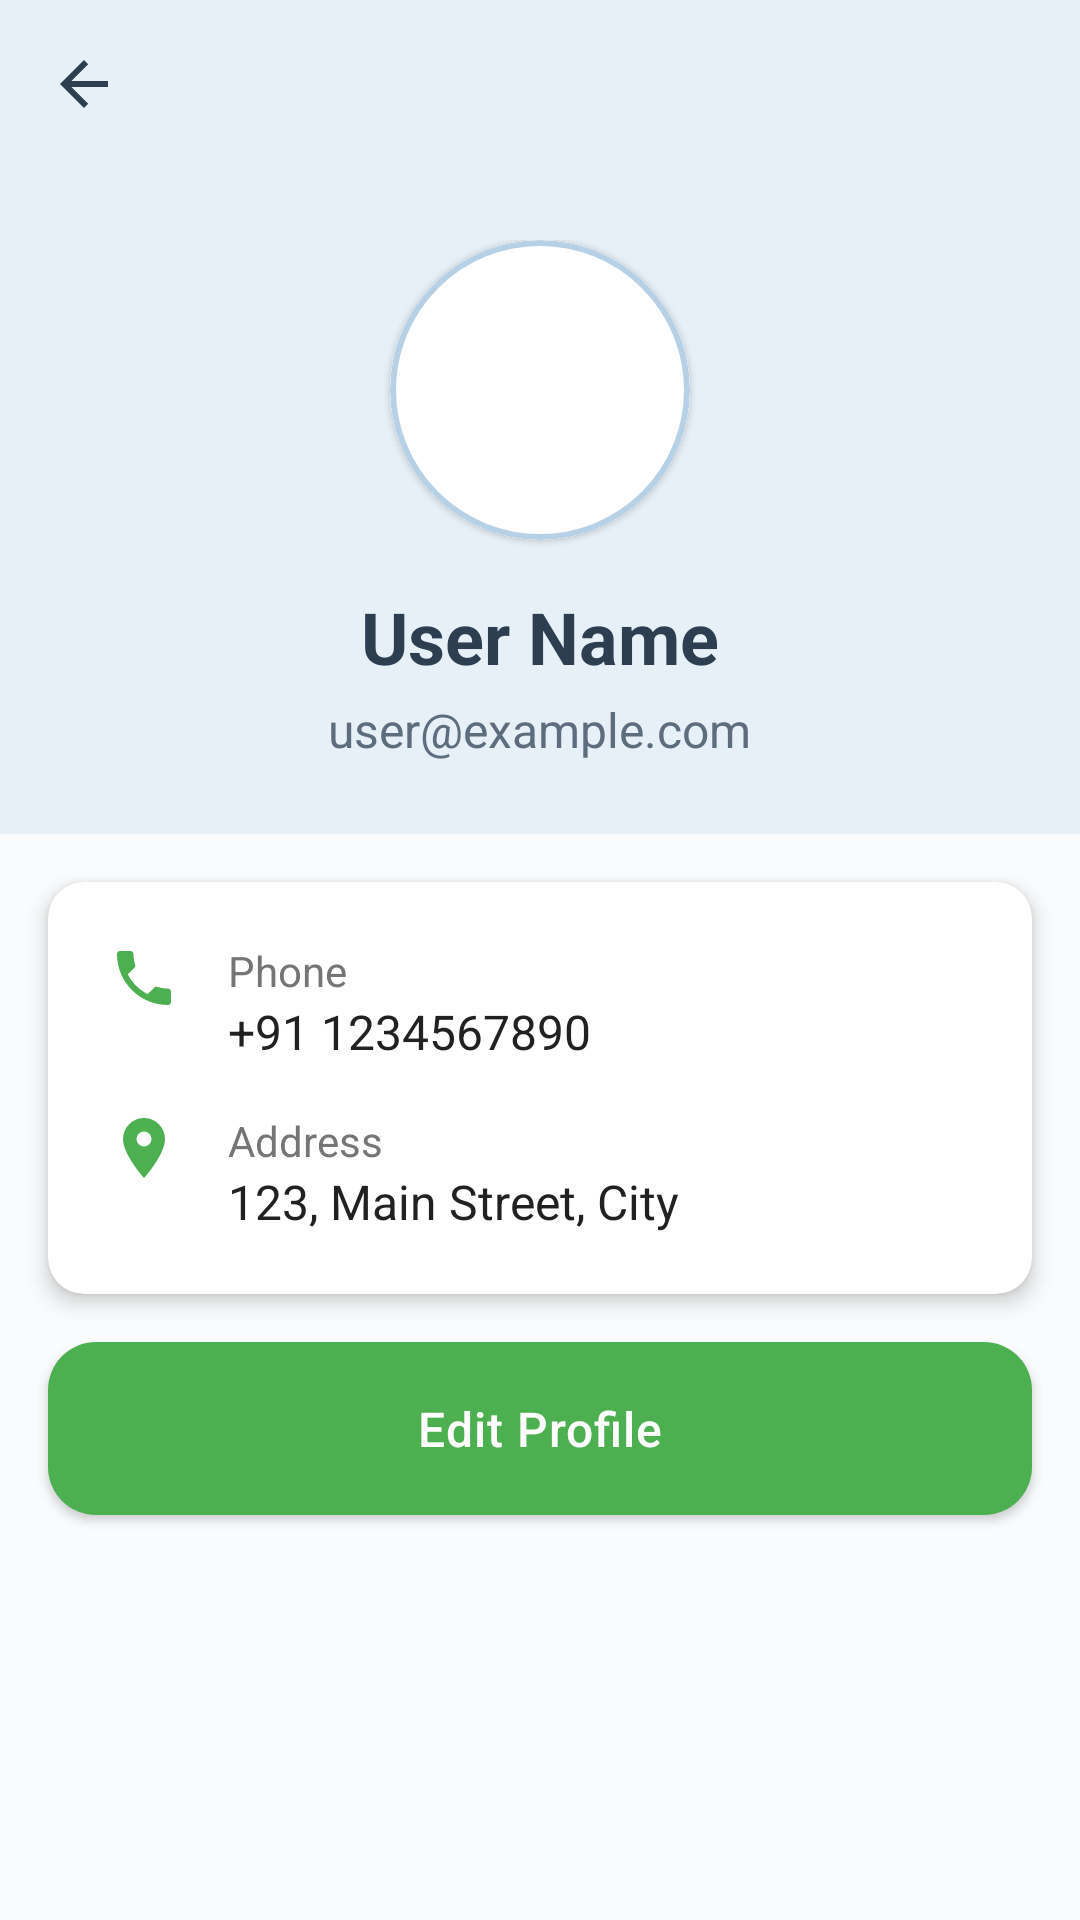

Screen size 1080x1920. Icon name, then its box in pixels as box(x1, y1, x2, y2):
location: box(123, 1118, 165, 1178)
